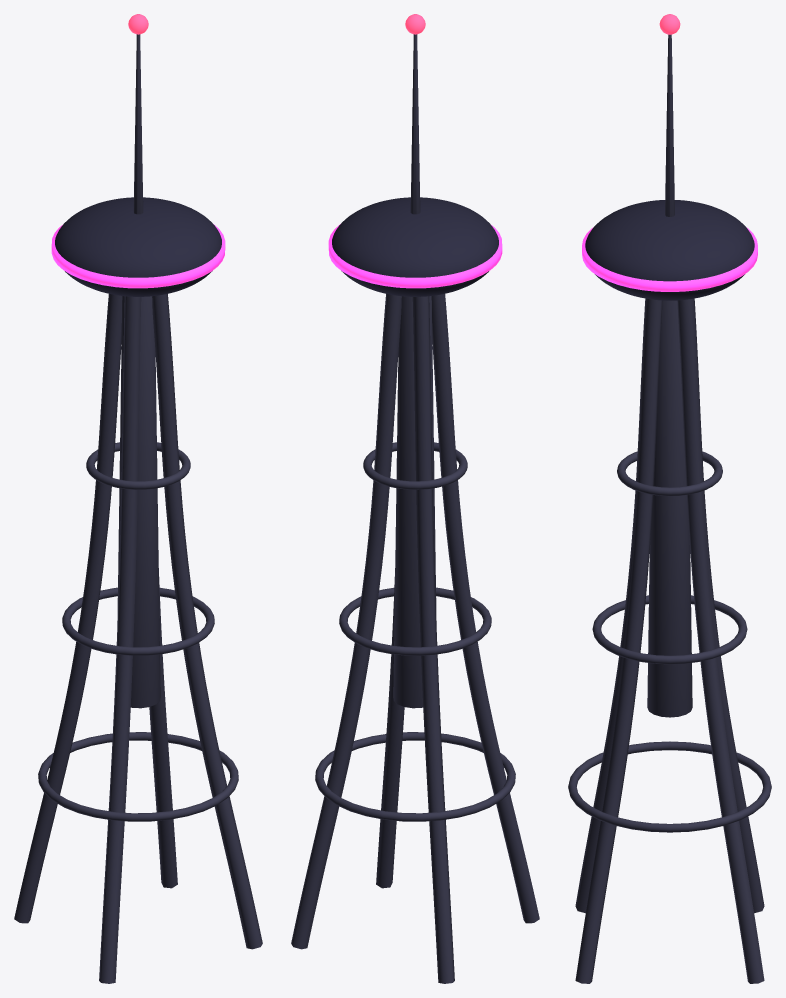
Rendered from menara-tv.glb.
The picture shows the model from 3 angles, left to right: view 1: azimuth 30°, elevation 25°; view 2: azimuth 150°, elevation 25°; view 3: azimuth 270°, elevation 25°; orthographic projection.
Visible parts, largest first — view 1: tube.002, Sphere, tube.003, tube.001, Cone, Torus.006, tube, Torus.007, Cylinder, Torus.008, Cone.001; view 2: tube.001, Sphere, tube, tube.002, Cone, Torus.006, tube.003, Torus.007, Cylinder, Torus.008, Cone.001; view 3: Cone, Sphere, tube, tube.003, Torus.006, tube.001, tube.002, Torus.007, Cylinder, Torus.008, Cone.001.
Part boxes in pixels (bbox=[...]): tube.002: bbox=[99, 296, 141, 983]; Sphere: bbox=[55, 197, 221, 296]; tube.003: bbox=[152, 294, 262, 949]; tube.001: bbox=[14, 294, 122, 923]; Cone: bbox=[117, 296, 160, 708]; Torus.006: bbox=[38, 732, 238, 821]; tube: bbox=[149, 568, 177, 888]; Torus.007: bbox=[62, 587, 214, 655]; Cylinder: bbox=[51, 224, 225, 288]; Torus.008: bbox=[86, 442, 190, 489]; Cone.001: bbox=[133, 34, 143, 214]; tube.001: bbox=[412, 296, 454, 983]; Sphere: bbox=[332, 197, 498, 296]; tube: bbox=[291, 294, 401, 949]; tube.002: bbox=[431, 294, 539, 923]; Cone: bbox=[393, 296, 436, 708]; Torus.006: bbox=[315, 732, 515, 821]; tube.003: bbox=[376, 568, 404, 888]; Torus.007: bbox=[339, 587, 491, 655]; Cylinder: bbox=[328, 224, 502, 288]; Torus.008: bbox=[363, 442, 467, 489]; Cone.001: bbox=[410, 34, 420, 214]; Cone: bbox=[647, 300, 692, 717]; Sphere: bbox=[585, 200, 754, 300]; tube: bbox=[677, 298, 764, 983]; tube.003: bbox=[575, 298, 662, 983]; Torus.006: bbox=[568, 741, 771, 832]; tube.001: bbox=[693, 298, 764, 913]; tube.002: bbox=[575, 298, 646, 913]; Torus.007: bbox=[592, 595, 747, 664]; Cylinder: bbox=[582, 227, 757, 291]; Torus.008: bbox=[617, 451, 722, 496]; Cone.001: bbox=[665, 34, 674, 216].
Size of the model in its own units: 11.7 by 58.98 by 11.7.
